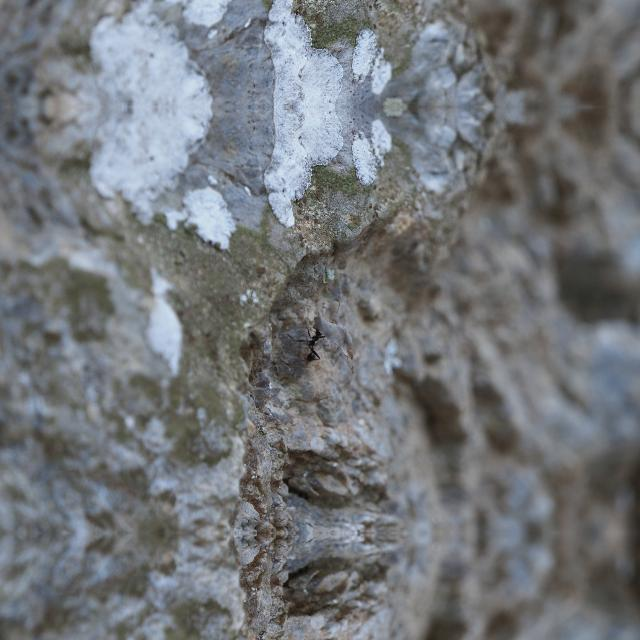Apheanogaster: (286, 319, 332, 365)
